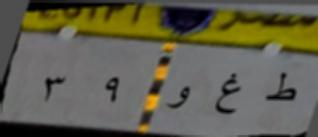3: (37, 70, 70, 108)
9: (102, 70, 125, 113)
Taa: (261, 66, 298, 116)
ghayn: (214, 62, 242, 122)
waw: (166, 87, 194, 116)
